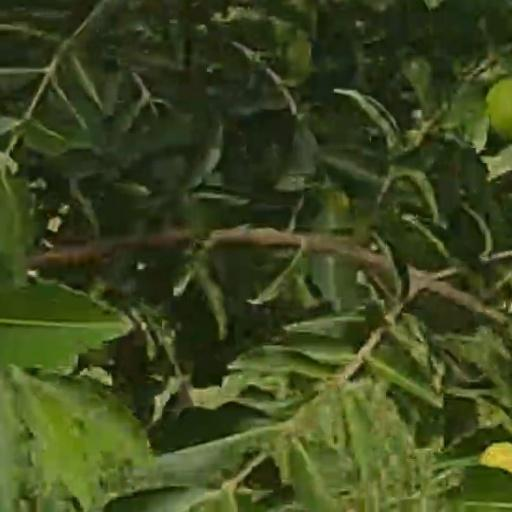acerola_verde: (486, 79, 512, 139)
